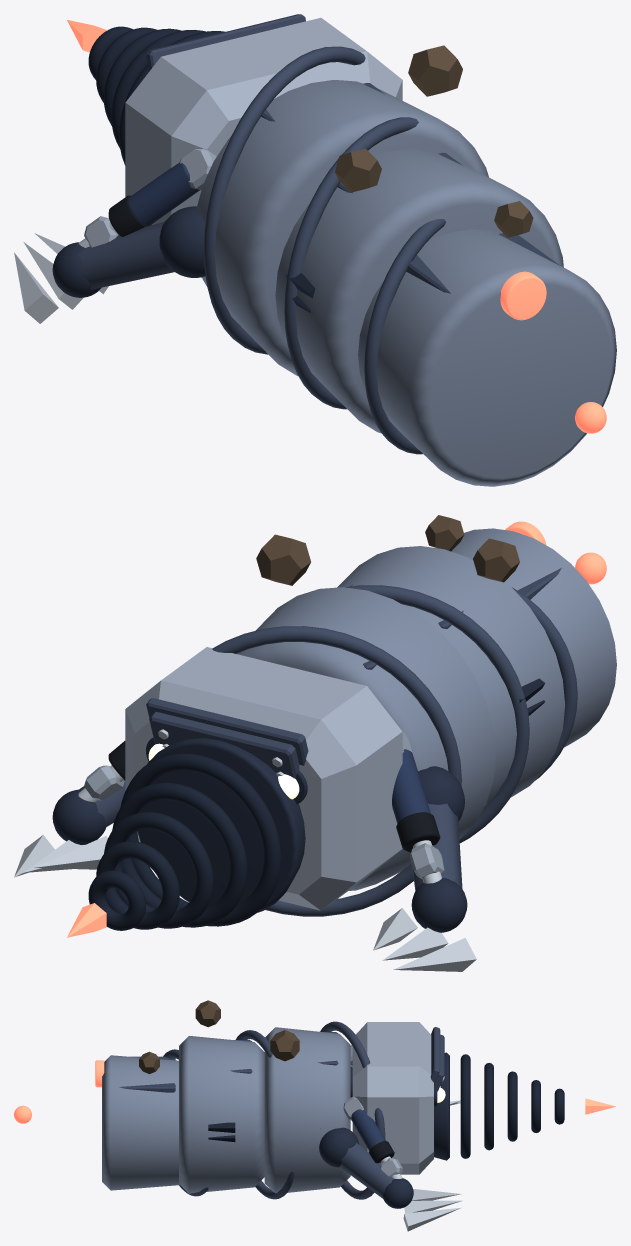
Rendered from enemy_mole_surfaced.glb.
3 renders of one model, top to bottom at view 1: azimuth 30°, elevation 25°; view 2: azimuth 150°, elevation 25°; view 3: azimuth 270°, elevation 25°, orthographic. The views are drawn at different scales.
Visible parts, largest first — view 1: mole_segment2, mole_segment0, mole_segment1, mole_head, mole_segment_ridge0, mole_segment_ridge1, mole_segment_ridge2, mole_arm_l, mole_shoulder_l, mole_arm_ram_l_body, mole_soil0, mole_core (+17 smaller); view 2: mole_head, mole_segment0, mole_segment1, mole_drill_hub, mole_segment2, mole_segment_ridge0, mole_drill_flute0, mole_segment_ridge1, mole_drill_flute1, mole_drill_flute2, mole_brow_face, mole_drill_flute3 (+22 smaller); view 3: mole_segment1, mole_segment0, mole_head, mole_segment2, mole_arm_r, mole_drill_hub, mole_segment_ridge0, mole_drill_flute0, mole_shoulder_r, mole_drill_flute1, mole_segment_ridge1, mole_drill_flute2 (+14 smaller).
Boxes of the visible parts, left/top/right/bottom form: mole_segment2: left=358, top=229, right=616, bottom=486; mole_segment0: left=196, top=80, right=488, bottom=375; mole_segment1: left=275, top=149, right=563, bottom=432; mole_head: left=125, top=17, right=402, bottom=277; mole_segment_ridge0: left=203, top=46, right=365, bottom=354; mole_segment_ridge1: left=284, top=117, right=418, bottom=409; mole_segment_ridge2: left=364, top=219, right=445, bottom=454; mole_arm_l: left=78, top=221, right=174, bottom=289; mole_shoulder_l: left=159, top=206, right=205, bottom=277; mole_arm_ram_l_body: left=129, top=162, right=199, bottom=225; mole_soil0: left=408, top=45, right=462, bottom=96; mole_core: left=500, top=271, right=546, bottom=320; mole_head: left=125, top=647, right=402, bottom=910; mole_segment0: left=236, top=587, right=495, bottom=890; mole_segment1: left=337, top=546, right=565, bottom=805; mole_drill_hub: left=137, top=738, right=305, bottom=912; mole_segment2: left=451, top=528, right=616, bottom=747; mole_segment_ridge0: left=212, top=626, right=461, bottom=916; mole_drill_flute0: left=120, top=753, right=281, bottom=926; mole_segment_ridge1: left=345, top=585, right=529, bottom=843; mole_drill_flute1: left=112, top=782, right=247, bottom=927; mole_drill_flute2: left=104, top=812, right=213, bottom=928; mole_brow_face: left=149, top=711, right=299, bottom=778; mole_drill_flute3: left=96, top=841, right=179, bottom=929; mole_segment1: left=179, top=1036, right=264, bottom=1193; mole_segment0: left=264, top=1027, right=350, bottom=1193; mole_head: left=352, top=1022, right=433, bottom=1174; mole_segment2: left=102, top=1055, right=179, bottom=1190; mole_arm_r: left=339, top=1142, right=393, bottom=1198; mole_drill_hub: left=434, top=1052, right=449, bottom=1160; mole_segment_ridge0: left=320, top=1021, right=385, bottom=1199; mole_drill_flute0: left=460, top=1054, right=470, bottom=1158; mole_shoulder_r: left=319, top=1127, right=359, bottom=1167; mole_drill_flute1: left=484, top=1063, right=493, bottom=1150; mole_segment_ridge1: left=235, top=1030, right=293, bottom=1199; mole_drill_flute2: left=507, top=1071, right=517, bottom=1141.
Size of what is drawn, in the model's own units: 1.31 by 0.8854 by 2.67.
